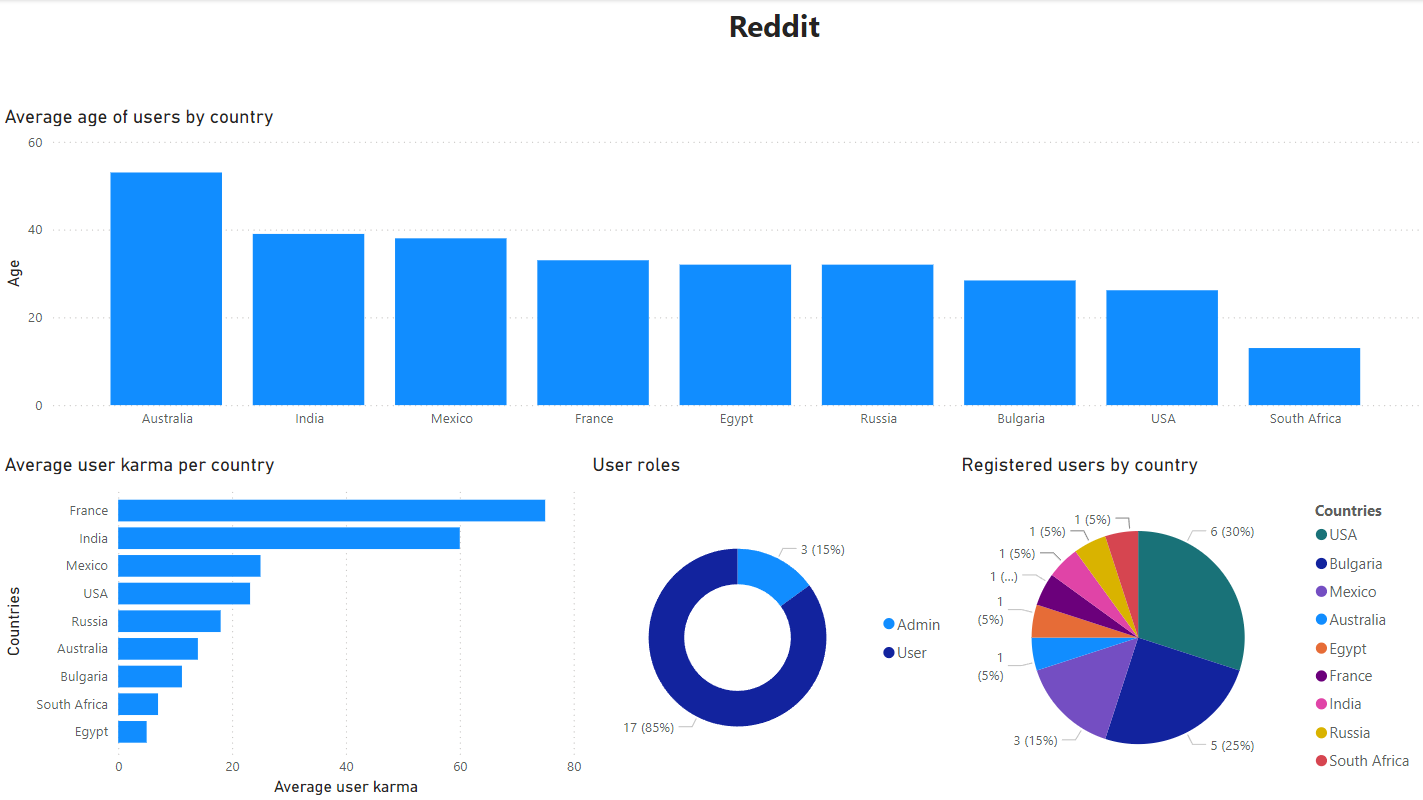

Layout of this report page (visuals, bound fields, positions):
{"tool":"powerbi","page":{"name":"Page 1","canvas":[1280,720],"ordinal":0},"visuals":[{"type":"pieChart","title":"Registered users by country","fields":{"Category":["user.country.name"],"Y":["CountNonNull(user.user_id)"]},"box":[859.2,407.6,421,312.4],"z":0},{"type":"clusteredBarChart","title":"Average user karma per country","fields":{"Y":["Avg(user.karma)"],"Category":["user.country.name"]},"box":[0,407.6,527.9,312.4],"z":1000},{"type":"columnChart","title":"Average age of users by country","fields":{"Category":["user.country.name"],"Y":["Avg(user.Custom)"]},"box":[0,95.2,1280.2,312.4],"z":2000},{"type":"donutChart","title":"User roles","fields":{"Y":["user.trueCount","user.falseCount"]},"box":[527.9,407.6,331.3,312.4],"z":3000},{"type":"textbox","box":[527.6,0,335.7,47],"z":4000}]}

Visuals, with their boxes in screenshot pixels (x1, y1, x2, y2), scaled from the page's 1280x720 canvas onto the 1423x800 screenshot:
"Registered users by country" pieChart: Rect(955, 453, 1422, 799)
"Average user karma per country" clusteredBarChart: Rect(0, 453, 587, 799)
"Average age of users by country" columnChart: Rect(0, 106, 1422, 453)
"User roles" donutChart: Rect(587, 453, 955, 799)
textbox: Rect(587, 0, 960, 52)
